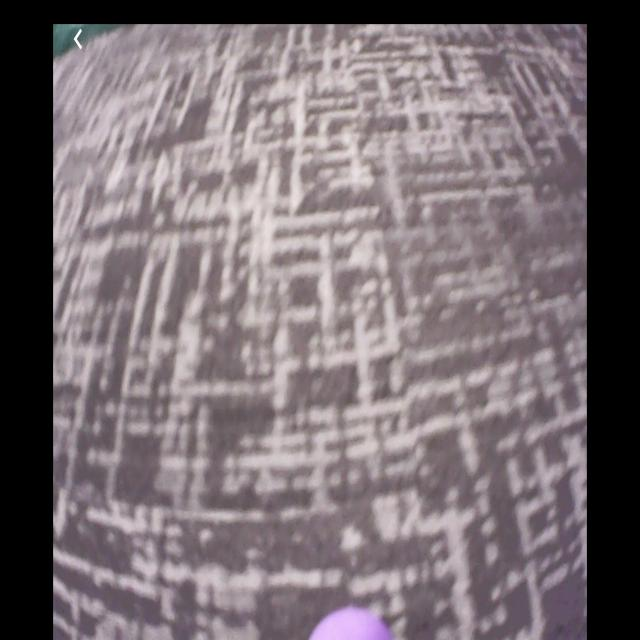ball: (310, 605, 398, 640)
